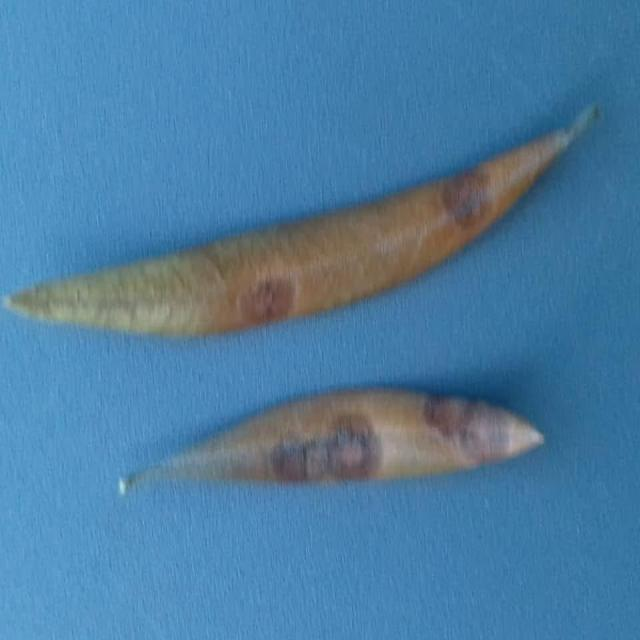OlivePeacockSpot: (3, 108, 598, 332), (120, 389, 544, 495)
